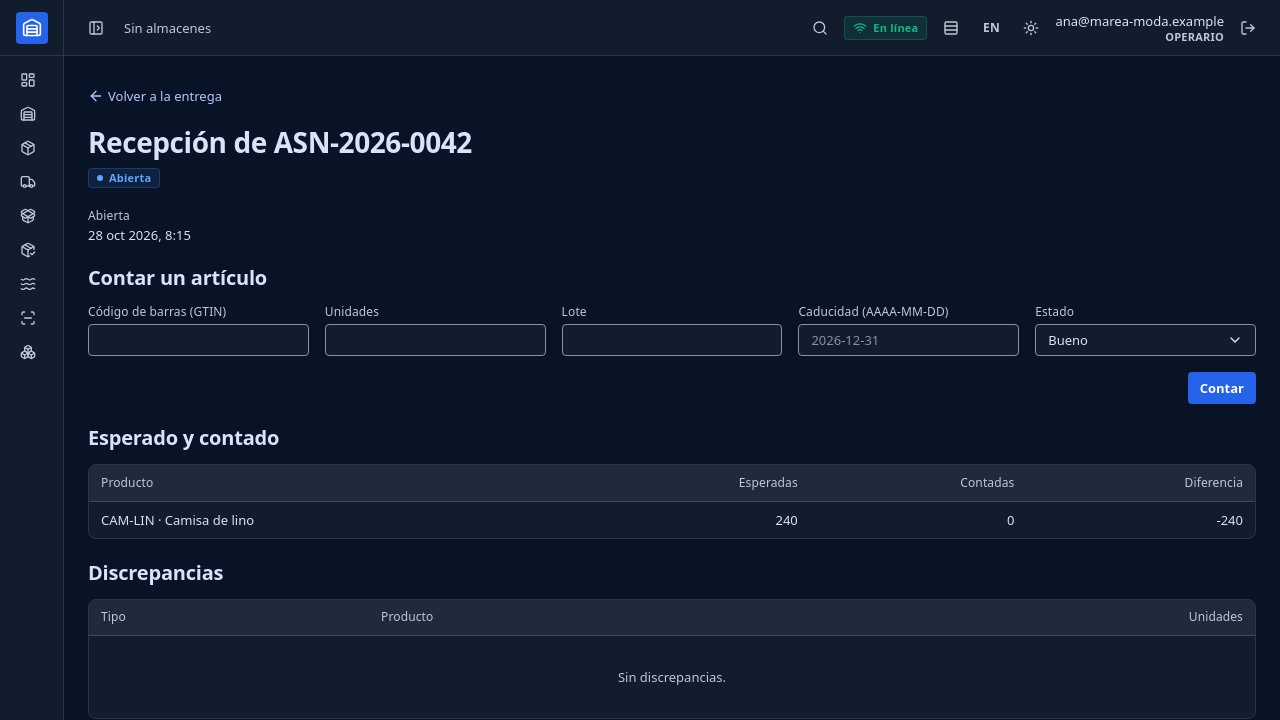
Scenario: a receipt at the dock › checks the form before it asks the API
Click the button "Contar": x=1222, y=388 top-left (1188, 372), bottom-right (1256, 404)
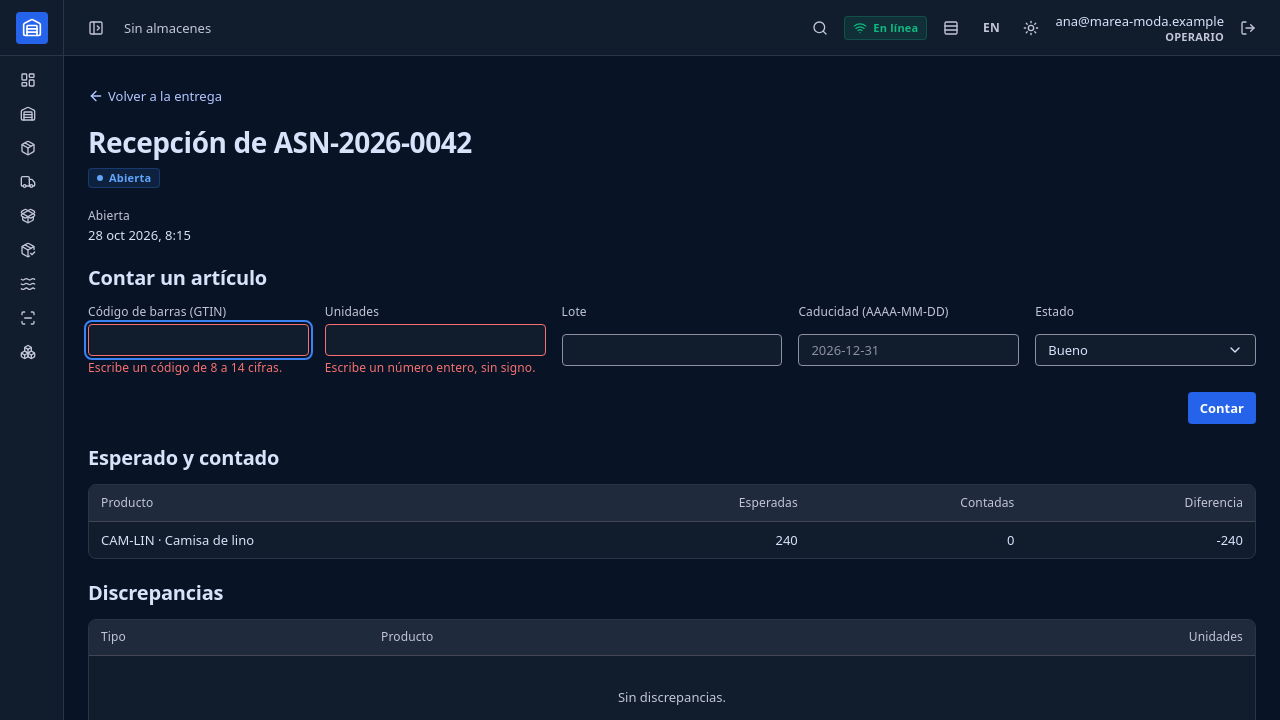
Expected: the text "Escribe un código de 8 a 14 cifras." is shown, top-left (88, 360), bottom-right (309, 376)
